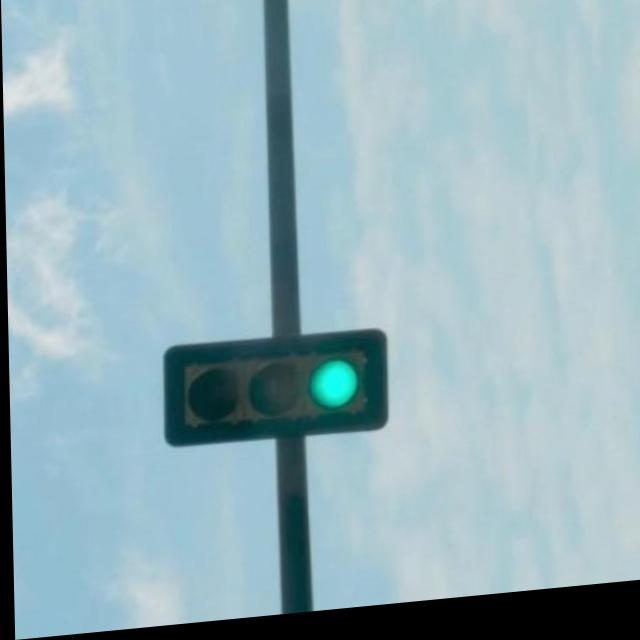green light: (182, 349, 363, 437)
